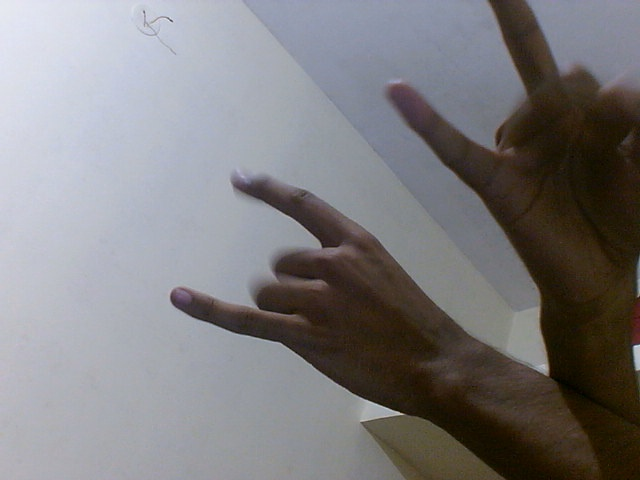hand: (162, 166, 478, 431), (386, 1, 640, 315)
